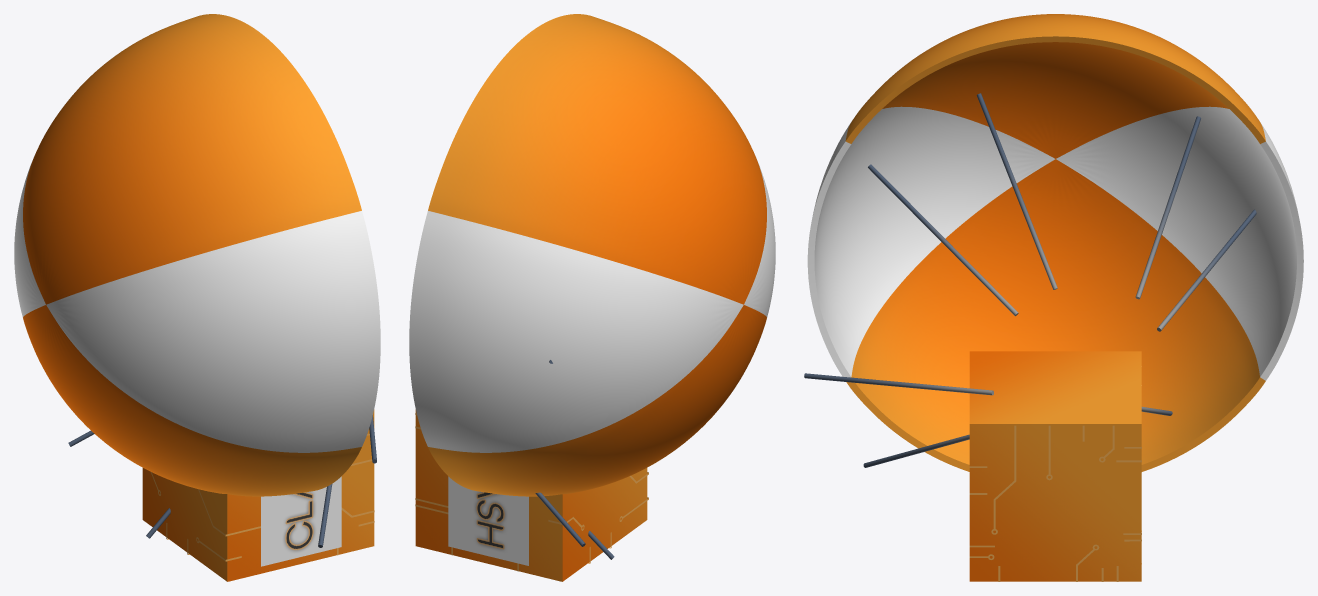
File: parachute_test.fbx
3 renders of one model, left to right at view 1: azimuth 30°, elevation 25°; view 2: azimuth 150°, elevation 25°; view 3: azimuth 270°, elevation 25°, orthographic.
Parts seen in each view (by area): view 1: parachute1, parachute2, Box003, Plane011, Line026, Line022; view 2: parachute1, parachute2, Box003, Plane013, Line023, Line026; view 3: parachute1, parachute2, Box003, Line024, Line025, Line022, Line026.
Boxes of the visible parts, bbox=[...] form: parachute1: bbox=[23, 14, 361, 496]; parachute2: bbox=[14, 160, 380, 452]; Box003: bbox=[142, 409, 374, 581]; Plane011: bbox=[261, 476, 341, 566]; Line026: bbox=[150, 433, 374, 561]; Line022: bbox=[318, 415, 376, 547]; parachute1: bbox=[428, 14, 766, 496]; parachute2: bbox=[409, 160, 775, 452]; Box003: bbox=[415, 409, 647, 581]; Plane013: bbox=[448, 476, 528, 565]; Line023: bbox=[535, 492, 614, 559]; Line026: bbox=[415, 413, 648, 571]; parachute1: bbox=[845, 14, 1265, 471]; parachute2: bbox=[807, 106, 1303, 380]; Box003: bbox=[969, 351, 1141, 581]; Line024: bbox=[868, 93, 1057, 316]; Line025: bbox=[1135, 116, 1256, 331]; Line022: bbox=[804, 373, 993, 467]; Line026: bbox=[969, 366, 1141, 581].
Size of the model in its own units: 49.72 by 82.43 by 73.26.
